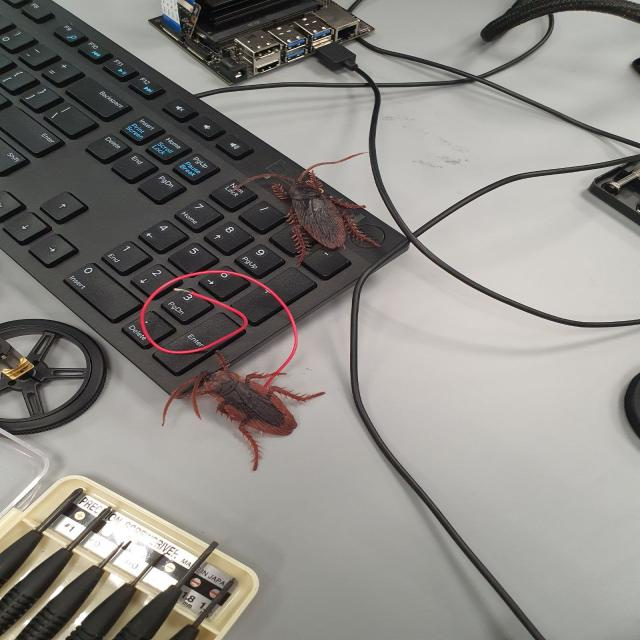Cockroach: (157, 343, 325, 469), (231, 150, 390, 268)
